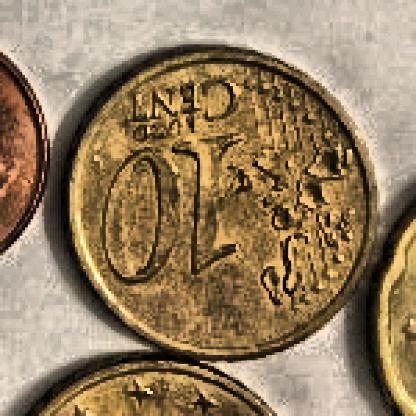coin: (65, 48, 378, 362)
